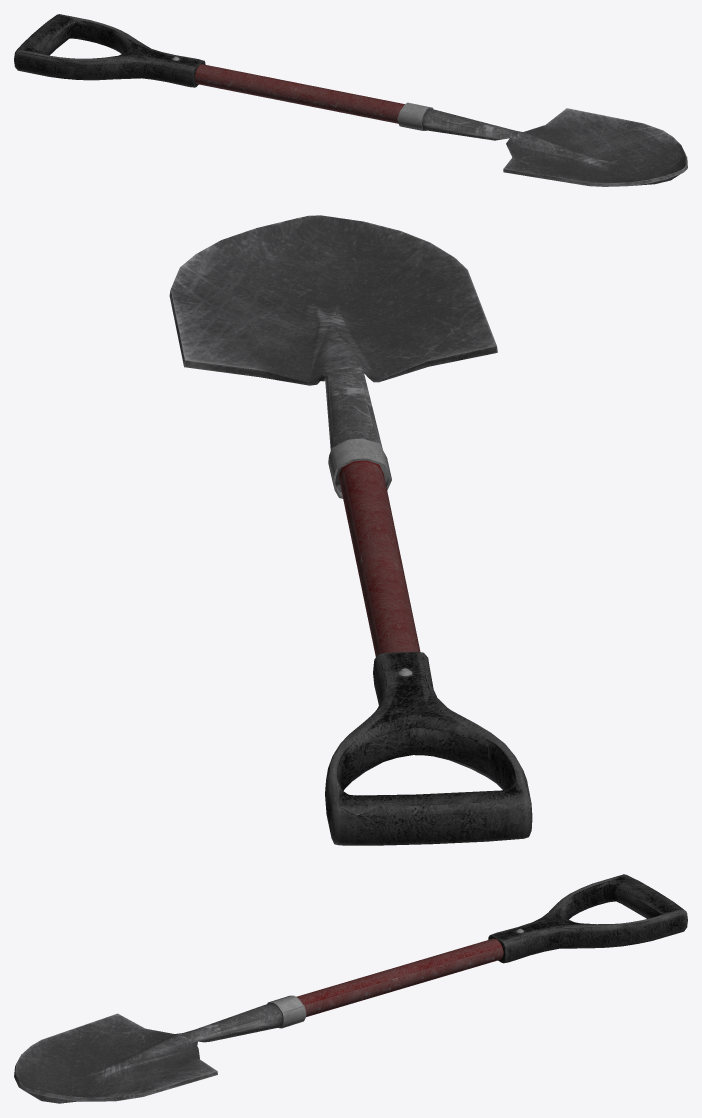
The model's file is shovel.glb.
3 views of the same model, one above another, from view 1: azimuth 30°, elevation 25°; view 2: azimuth 150°, elevation 25°; view 3: azimuth 270°, elevation 25° (orthographic). The views are drawn at different scales.
Visible parts, largest first — view 1: Plane.001, Cube.007, Cylinder.008; view 2: Plane.001, Cube.007, Cylinder.008; view 3: Plane.001, Cube.007, Cylinder.008.
Part boxes in pixels (<box>): Plane.001: <box>397,102,687,186</box>; Cube.007: <box>14,14,205,87</box>; Cylinder.008: <box>195,64,404,123</box>; Plane.001: <box>169,215,497,498</box>; Cube.007: <box>325,651,532,845</box>; Cylinder.008: <box>339,460,420,656</box>; Plane.001: <box>14,995,306,1103</box>; Cube.007: <box>488,874,687,963</box>; Cylinder.008: <box>296,938,503,1016</box>.
Bounding box in the file's own units: 13.85 × 0.8951 × 18.12.
1 material, 1 textured.
